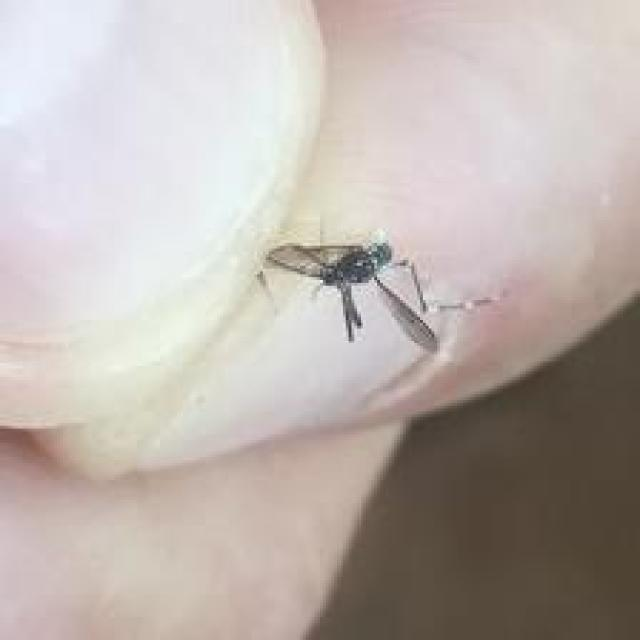Aedes albopictus: (255, 223, 496, 354)
